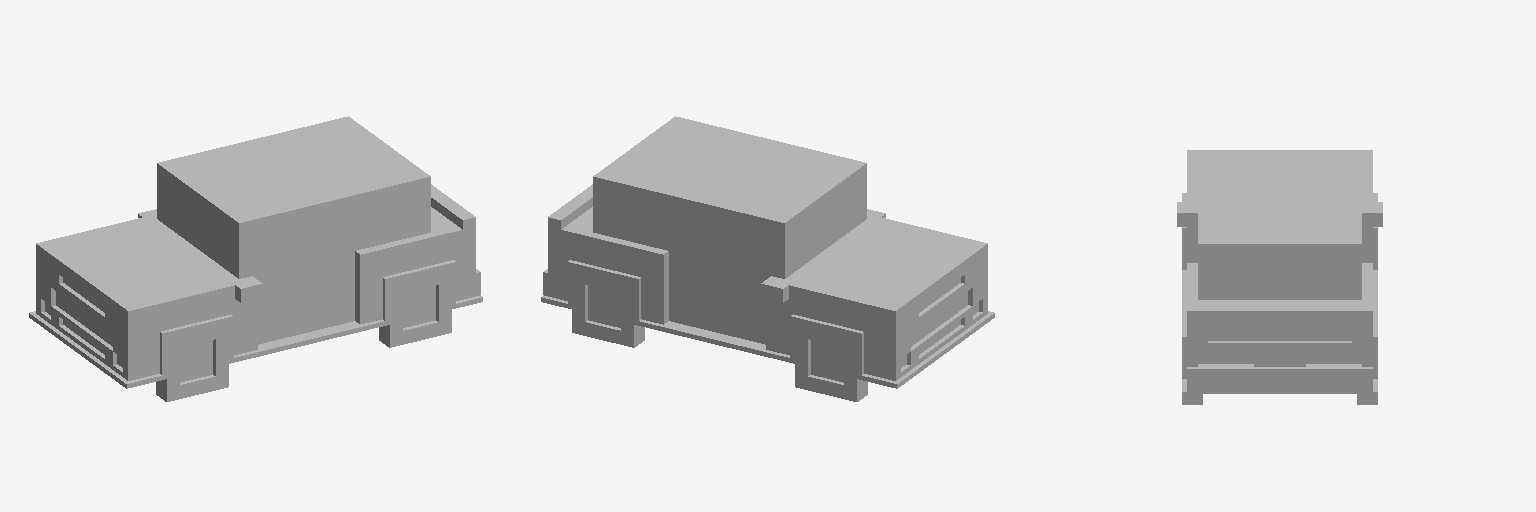
Rendered from alll cars3-9.obj.
3 renders of one model, left to right at view 1: azimuth 30°, elevation 25°; view 2: azimuth 150°, elevation 25°; view 3: azimuth 270°, elevation 25°, orthographic.
Visible parts, largest first — view 1: object 1; view 2: object 1; view 3: object 1.
Boxes of the visible parts, x1=… form: object 1: x1=29, y1=116, x2=482, y2=401; object 1: x1=541, y1=116, x2=994, y2=401; object 1: x1=1177, y1=150, x2=1382, y2=404.
Size of the model in its own units: 8 by 3.3 by 4.